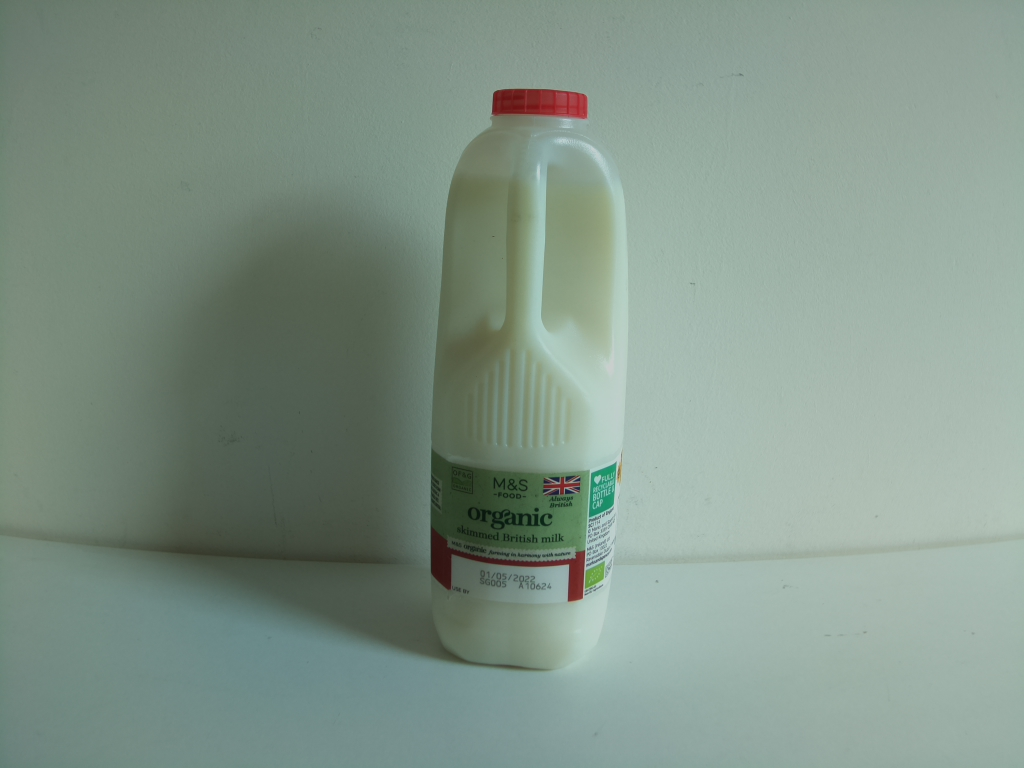milk: (422, 80, 633, 677)
